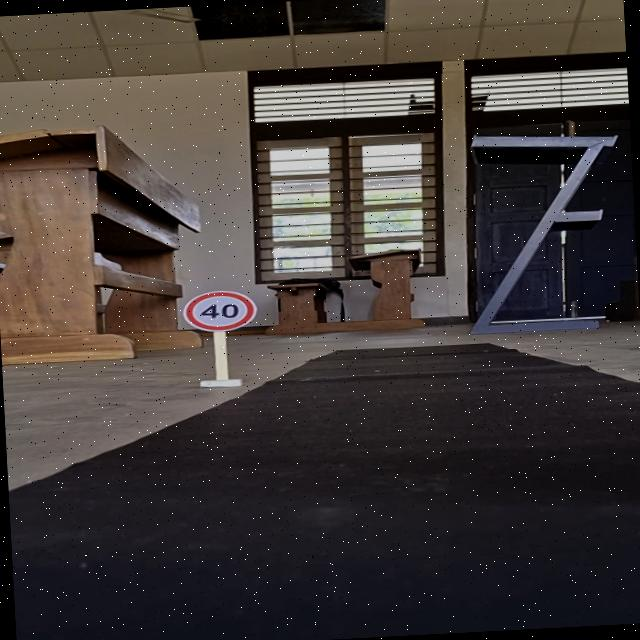Speed40: (178, 284, 258, 336)
